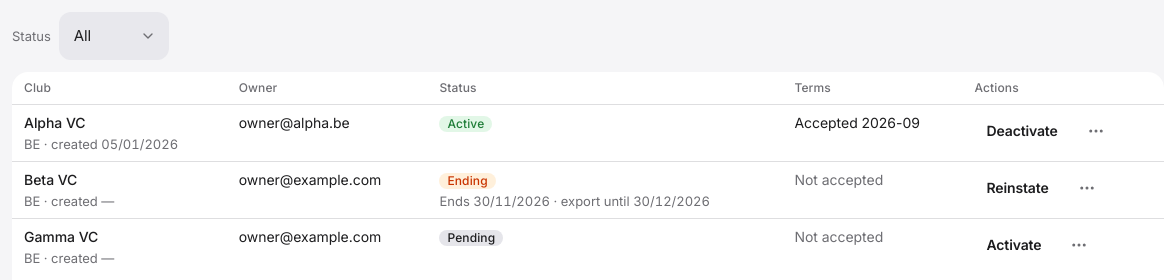
it: ClubsTable › shows each row's actions from clubActions, secondary ones in a More menu
Expected: the column heading "Alpha VC" is shown, [24,114,86,131]
Expected: the button "Deactivate" is shown, [974,109,1070,153]
What coordinates should you click on to do the following:
click the button named "More actions"
I would click on:
 (1096, 131)
Its box is [1074,109,1118,153].
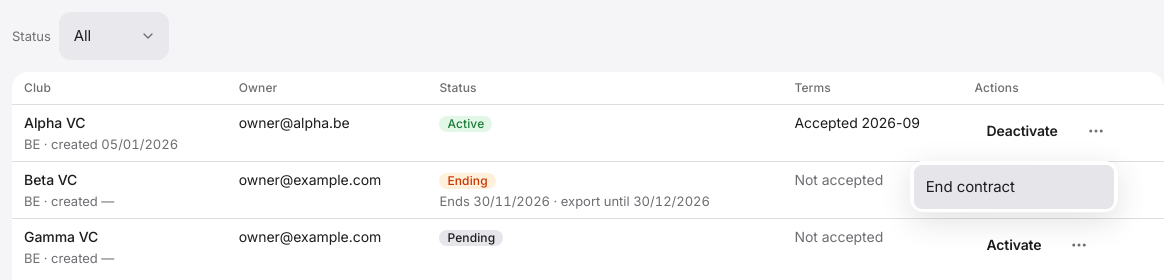
Expected: the button "Reinstate" is shown, [974,166,1060,210]
Now the menu item "End contract" is shown, box [914,165,1114,209]
